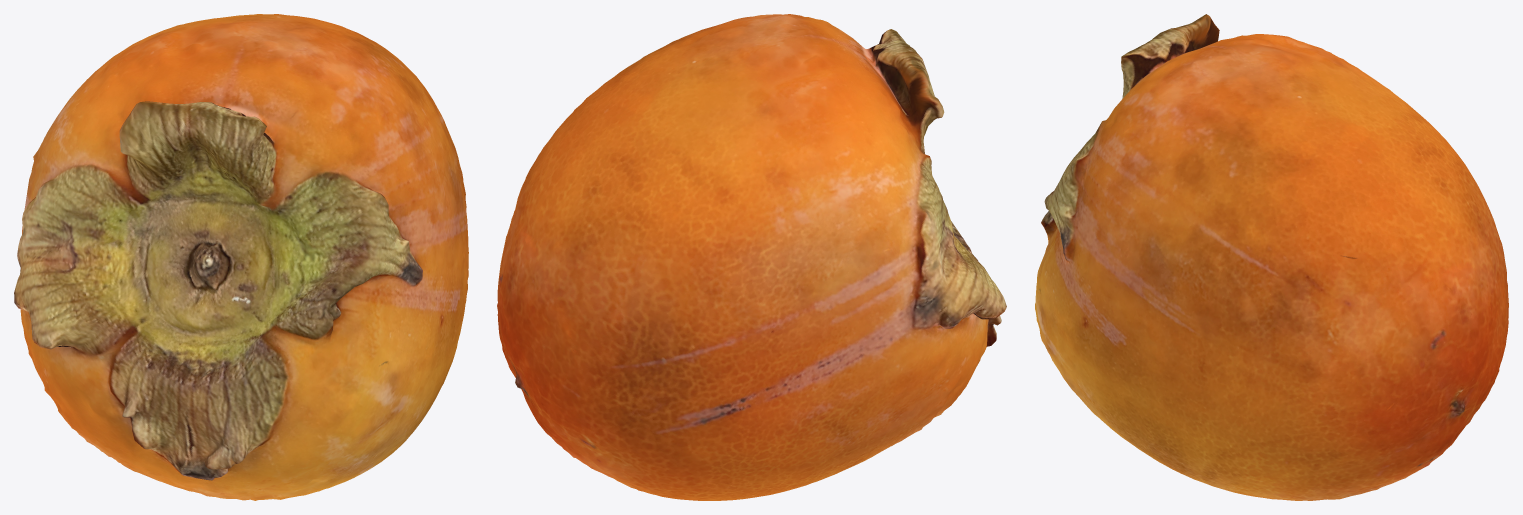
File: persimmon.glb
The picture shows the model from 3 angles, left to right: view 1: azimuth 30°, elevation 25°; view 2: azimuth 150°, elevation 25°; view 3: azimuth 270°, elevation 25°; orthographic projection. The views are drawn at different scales.
Parts seen in each view (by area): view 1: Object_2; view 2: Object_2; view 3: Object_2.
Boxes of the visible parts, x1,y1,x2,y2 form: Object_2: (14, 14, 468, 500); Object_2: (497, 14, 1006, 500); Object_2: (1035, 14, 1508, 500).
Bounding box in the file's own units: 2.03 × 1.94 × 2.03.
1 material, 1 textured.
